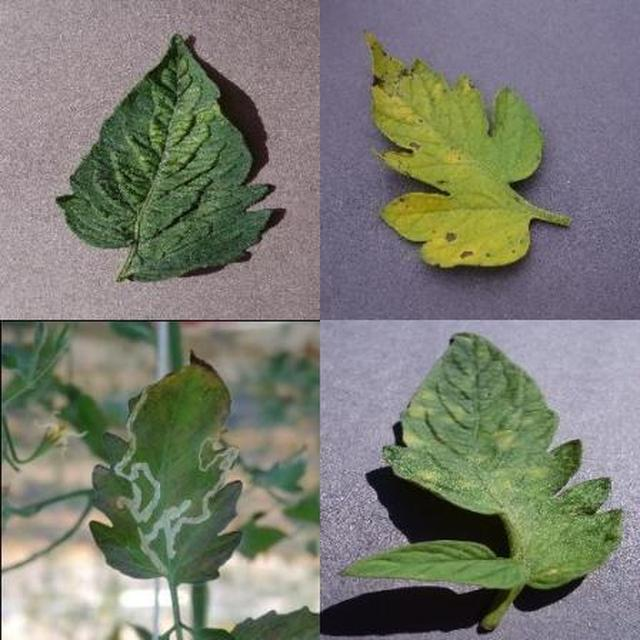Spider Mites Leaf: (224, 210, 640, 640)
